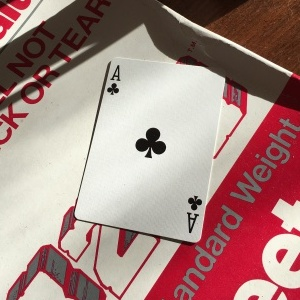card: (71, 57, 228, 243)
